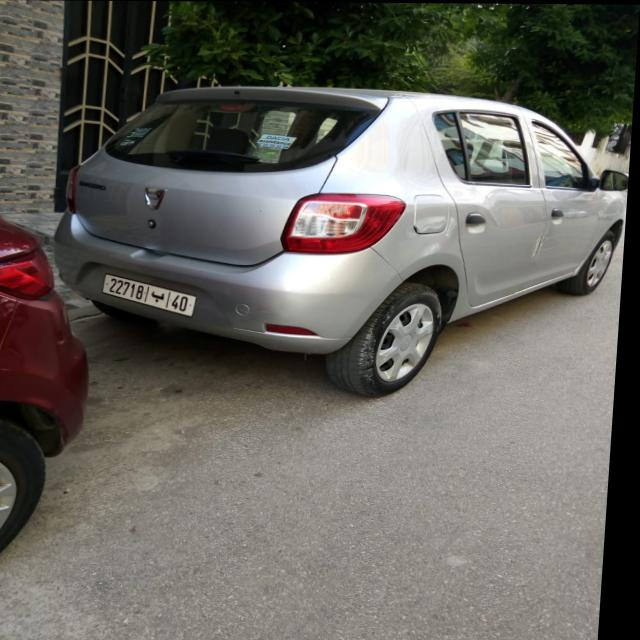License-Plate: (106, 275, 201, 316)
